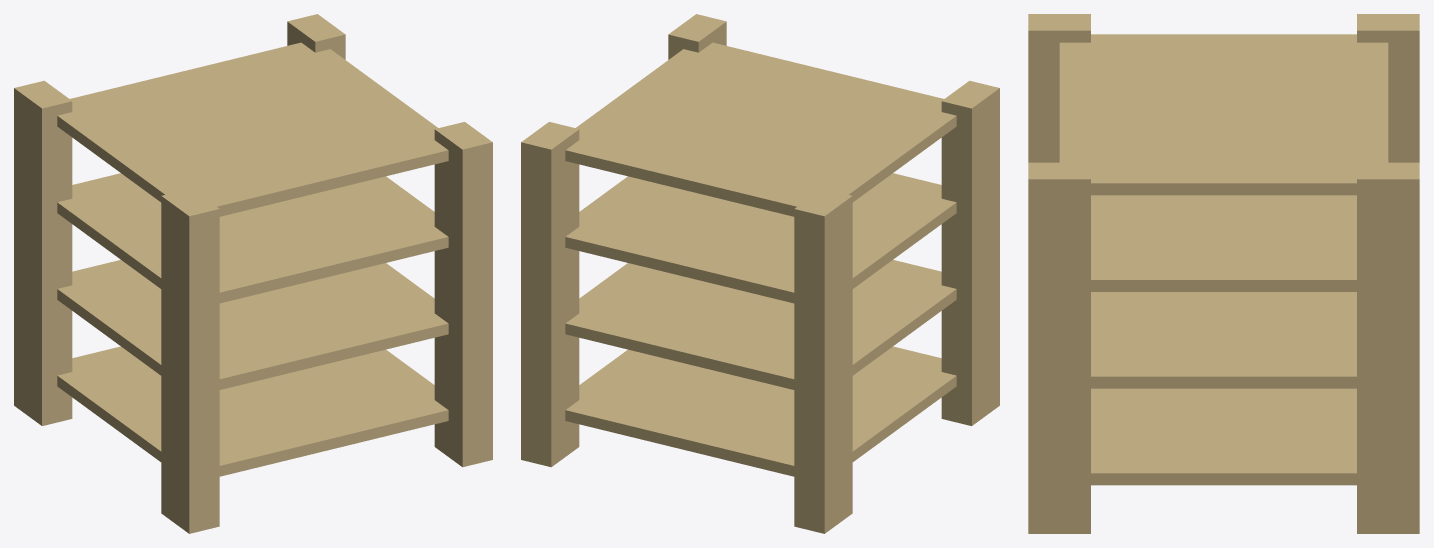
Rendered from bookcase-open.glb.
3 views of the same model, side by side, from view 1: azimuth 30°, elevation 25°; view 2: azimuth 150°, elevation 25°; view 3: azimuth 270°, elevation 25° (orthographic). The views are drawn at different scales.
Size of the model in its own units: 1 by 1 by 1.
